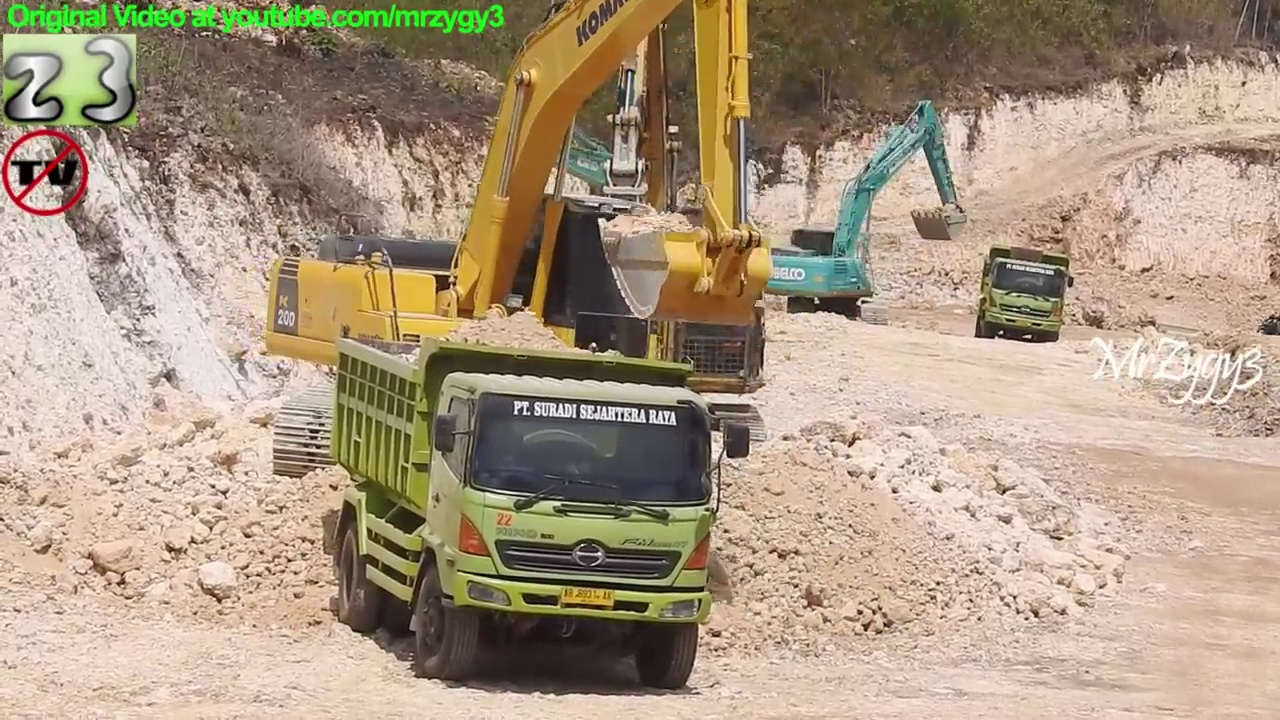excavator: (259, 1, 779, 488), (407, 1, 782, 467), (757, 93, 972, 323)
truck: (327, 330, 755, 698), (974, 244, 1078, 347)
